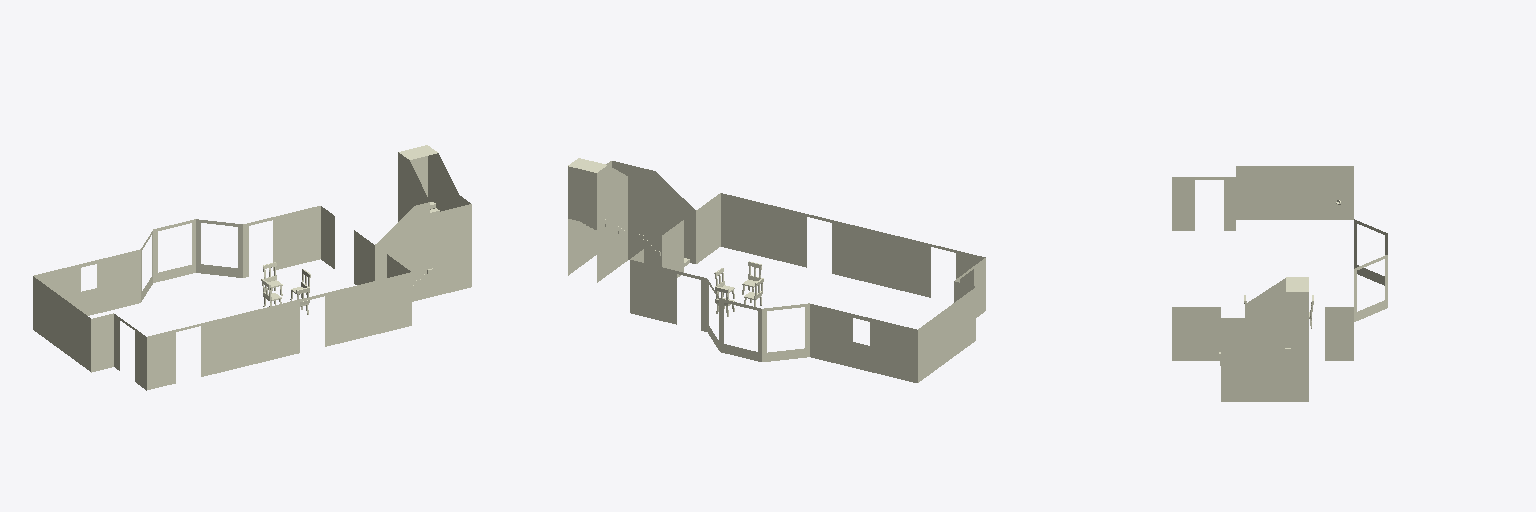
3 renders of one model, left to right at view 1: azimuth 30°, elevation 25°; view 2: azimuth 150°, elevation 25°; view 3: azimuth 270°, elevation 25°, orthographic.
Parts seen in each view (by area): view 1: ceiling.001_Cube.004; view 2: ceiling.001_Cube.004; view 3: ceiling.001_Cube.004.
Boxes of the visible parts, x1=… form: ceiling.001_Cube.004: x1=33, y1=145, x2=471, y2=390; ceiling.001_Cube.004: x1=568, y1=158, x2=985, y2=382; ceiling.001_Cube.004: x1=1172, y1=166, x2=1387, y2=401.
Bounding box in the file's own units: 40.11 × 11.33 × 20.18.
1 materials, 1 textured.